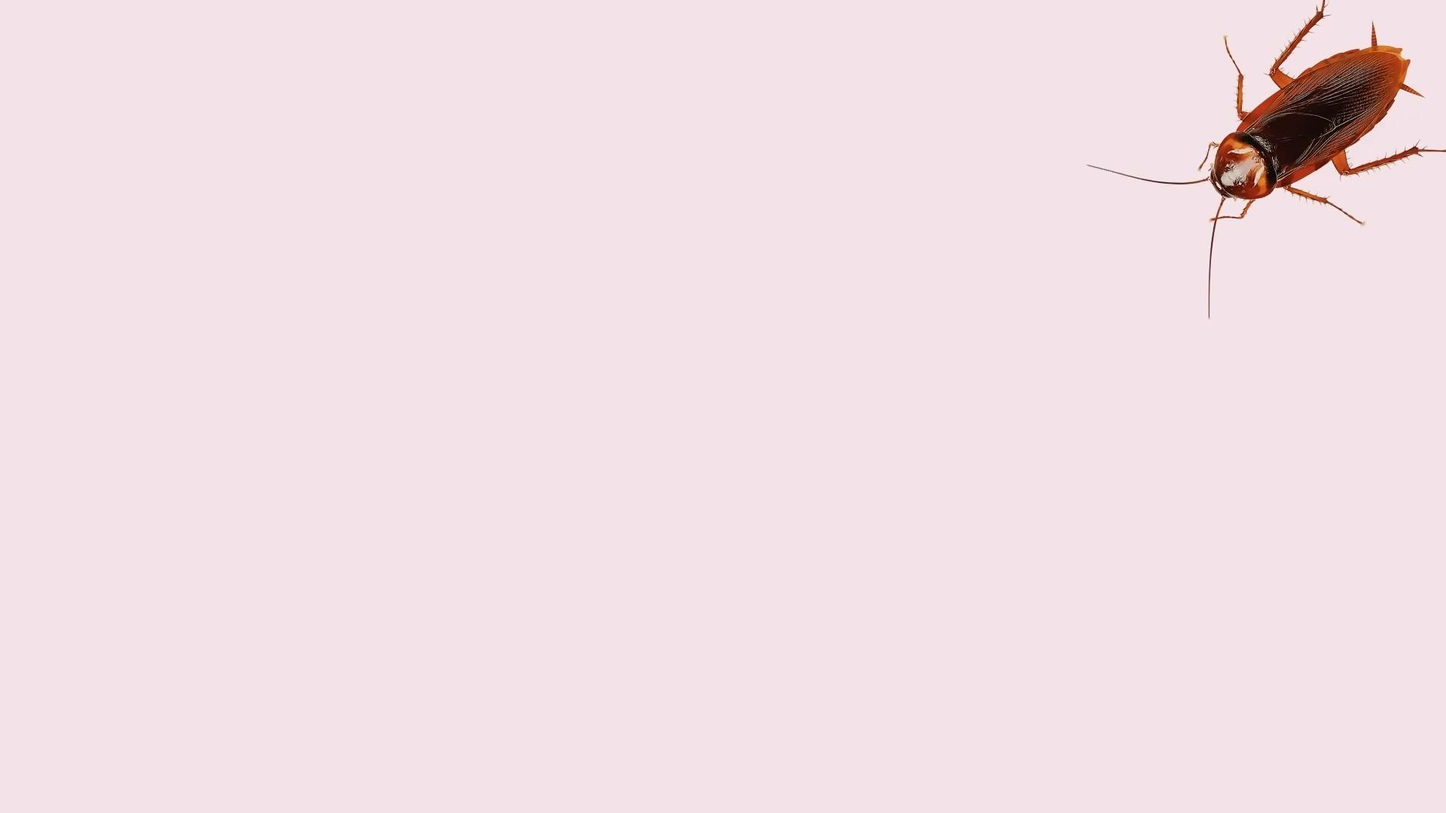cockroach: (1066, 33, 1446, 246)
